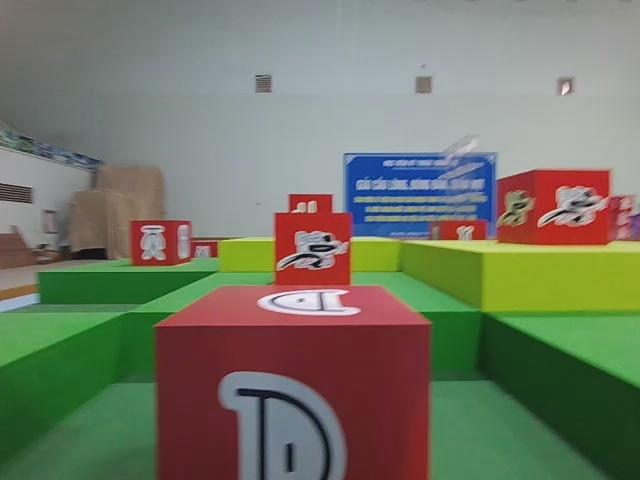R1: (492, 166, 612, 249), (271, 209, 354, 290)
R2 Fake: (128, 217, 193, 266)
R2 Real: (152, 282, 434, 480)
